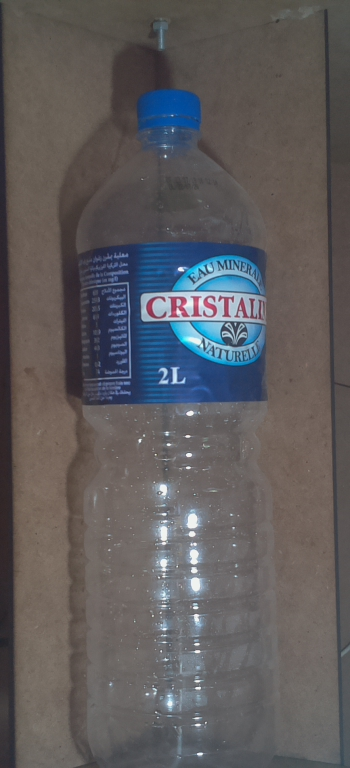Bouteille_2L: (69, 84, 288, 768)
